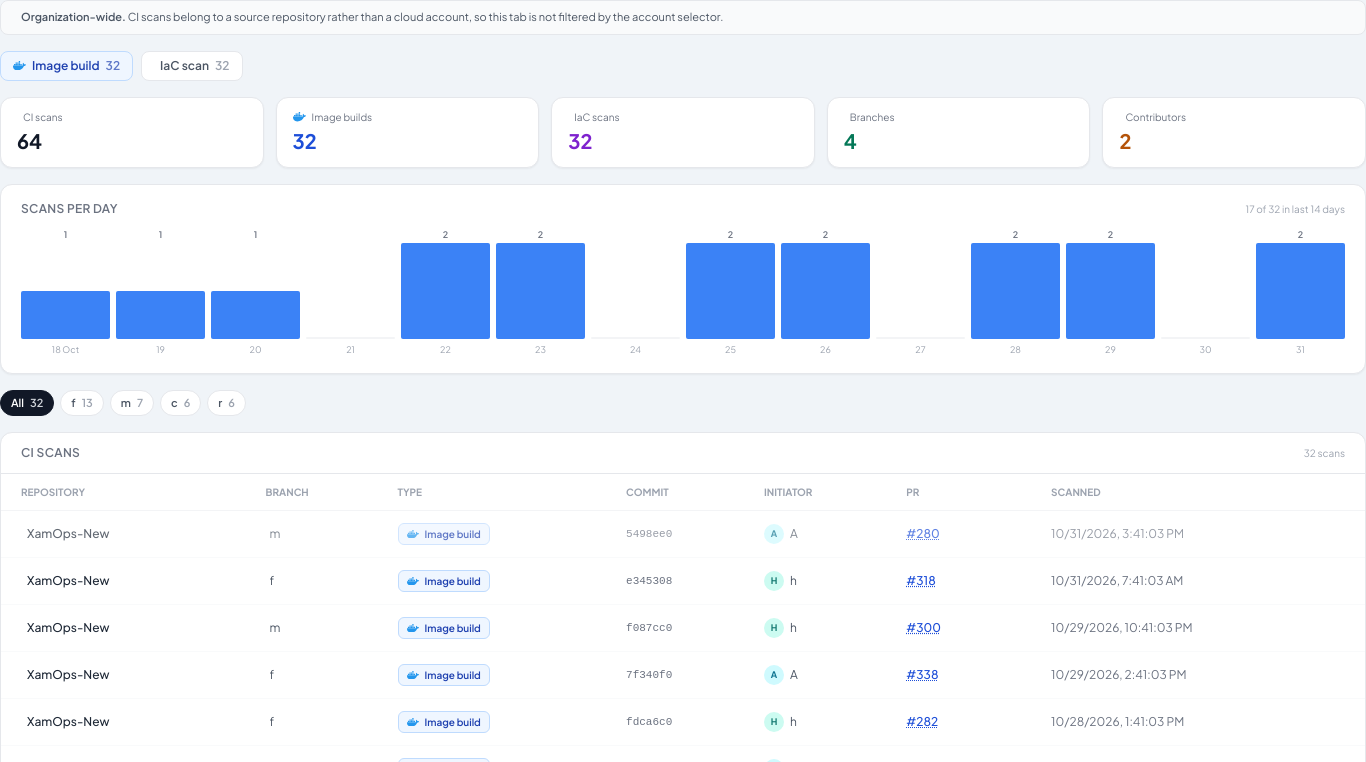
Test: XamSecure demo data renders in every tab › a scan opens on the narrative and the shift-left path, not a wall of CVEs
The width and height of the screenshot is (1366, 762).
Click the 6th row. click: (683, 722)
box: top-left (1, 698), bottom-right (1365, 746)
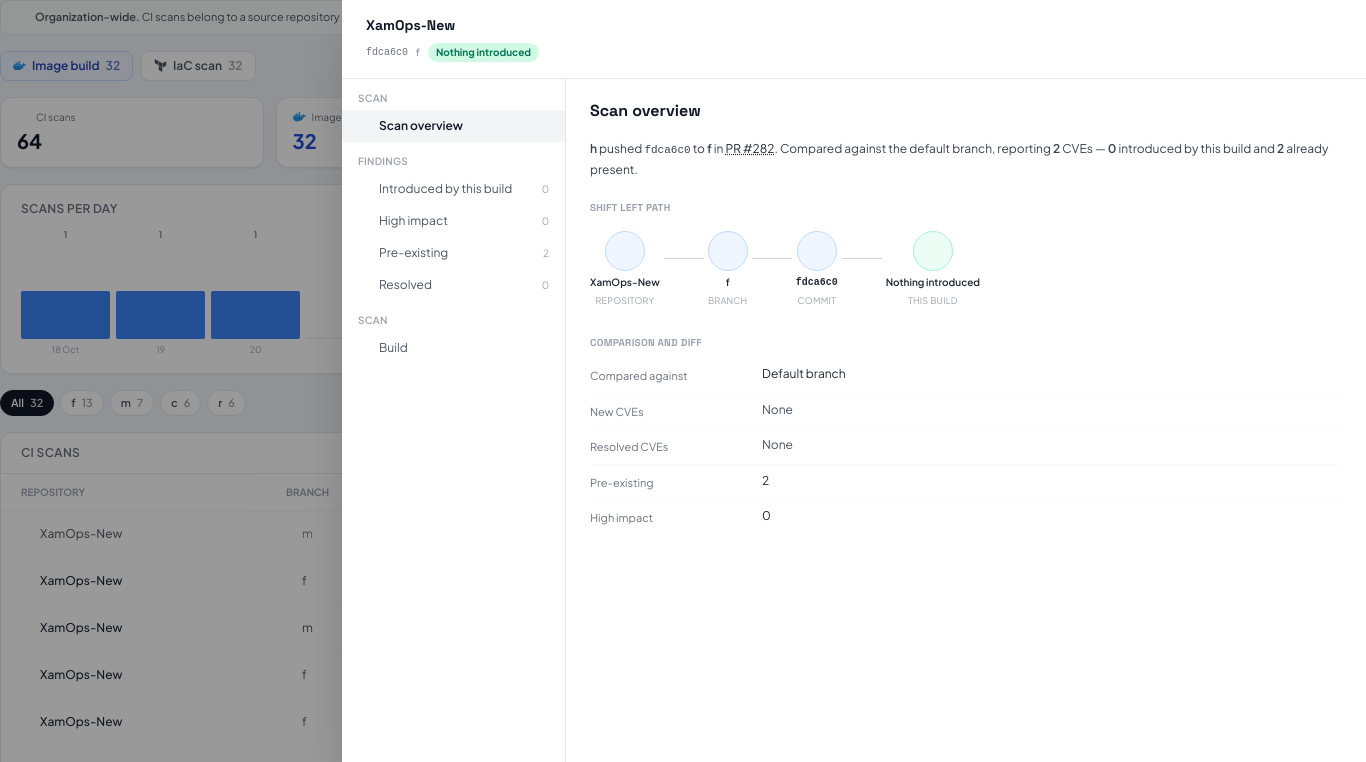
Result: the text "pushed" is shown at top-left (597, 141), bottom-right (644, 156)
Result: the text "Repository" is shown at top-left (595, 294), bottom-right (654, 307)
Result: the text "Branch" is shown at top-left (708, 294), bottom-right (747, 307)
